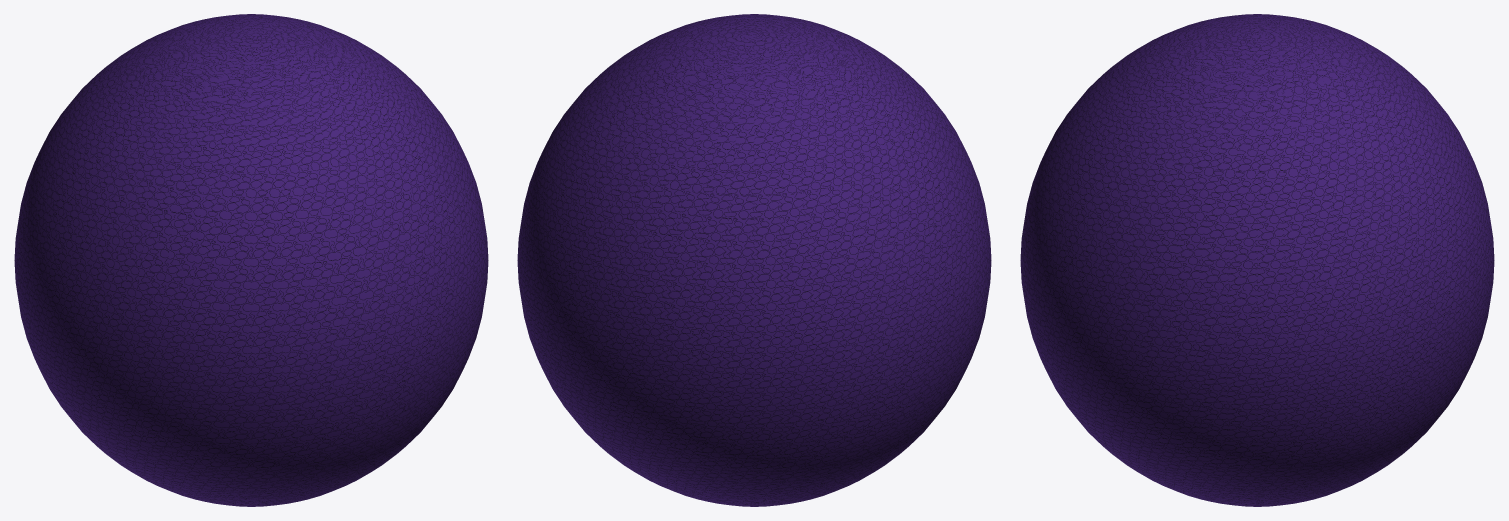
The model's file is bcf1542b-169d-45ec-9424-77582adb4b42.dae.
The picture shows the model from 3 angles, left to right: view 1: azimuth 30°, elevation 25°; view 2: azimuth 150°, elevation 25°; view 3: azimuth 270°, elevation 25°; orthographic projection.
Parts seen in each view (by area): view 1: subdivisio; view 2: subdivisio; view 3: subdivisio.
Boxes of the visible parts, x1=… form: subdivisio: x1=14, y1=14, x2=488, y2=506; subdivisio: x1=517, y1=14, x2=991, y2=506; subdivisio: x1=1020, y1=14, x2=1494, y2=506.
Bounding box in the file's own units: 52.11 × 52.11 × 54.86.
1 material, 1 textured.
